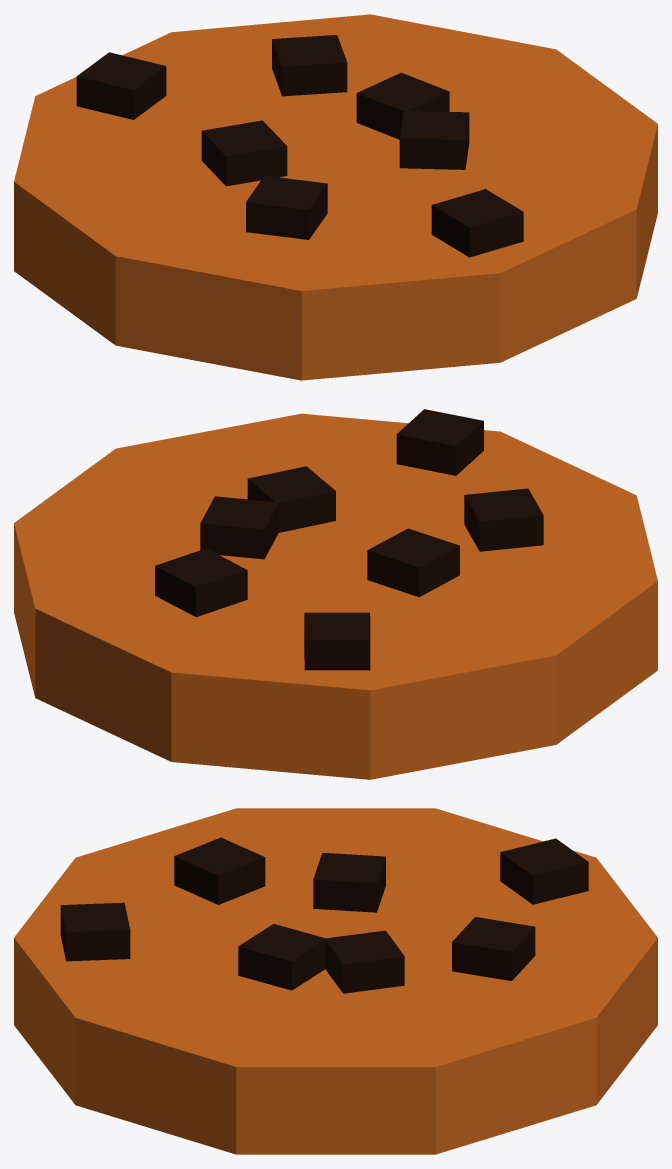
The model's file is cookie.obj.
3 renders of one model, top to bottom at view 1: azimuth 30°, elevation 25°; view 2: azimuth 150°, elevation 25°; view 3: azimuth 270°, elevation 25°, orthographic. The views are drawn at different scales.
Visible parts, largest first — view 1: cookie; view 2: cookie; view 3: cookie.
Boxes of the visible parts, x1=… form: cookie: x1=14, y1=14, x2=657, y2=380; cookie: x1=14, y1=409, x2=657, y2=779; cookie: x1=14, y1=808, x2=657, y2=1154.
Bounding box in the file's own units: 0.0761 × 0.016 × 0.08.
